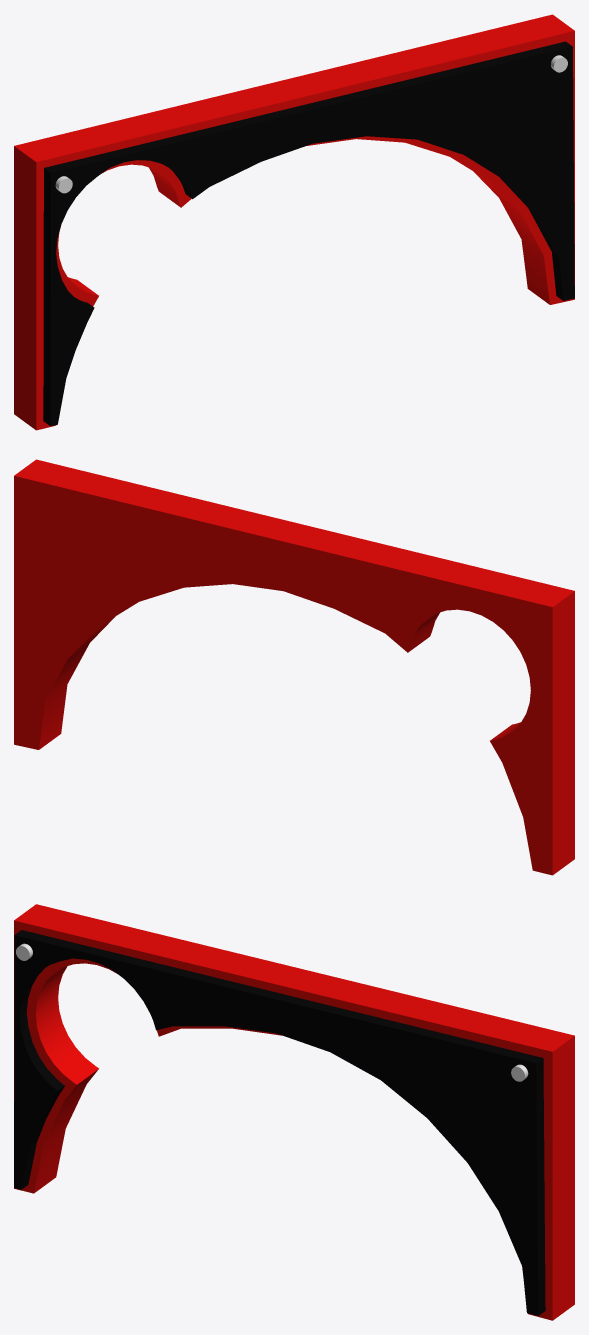
File: Top.fbx
3 renders of one model, top to bottom at view 1: azimuth 30°, elevation 25°; view 2: azimuth 150°, elevation 25°; view 3: azimuth 330°, elevation 25°, orthographic.
Visible parts, largest first — view 1: Circle.002; view 2: Circle.002; view 3: Circle.002.
Part boxes in pixels (x1,y1,x2,y2): Circle.002: (14,14,574,430); Circle.002: (14,459,574,875); Circle.002: (14,904,574,1320).
Bounding box in the file's own units: 2791 × 1331 × 293.
